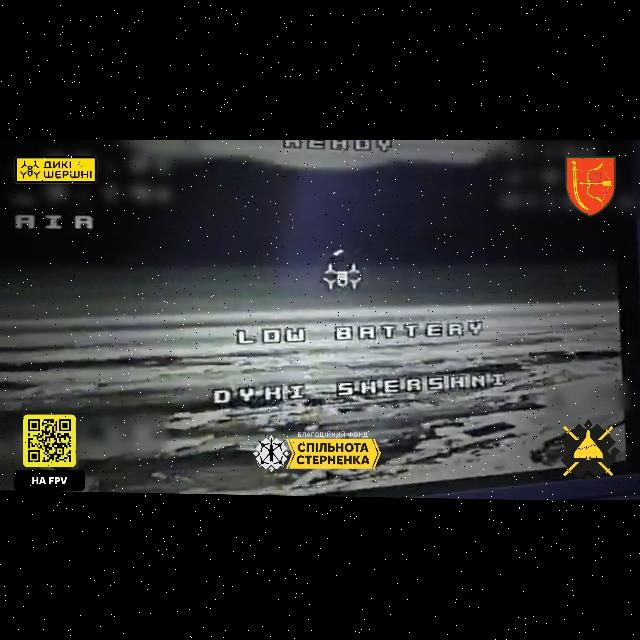Gerbera: (334, 249, 344, 257)
